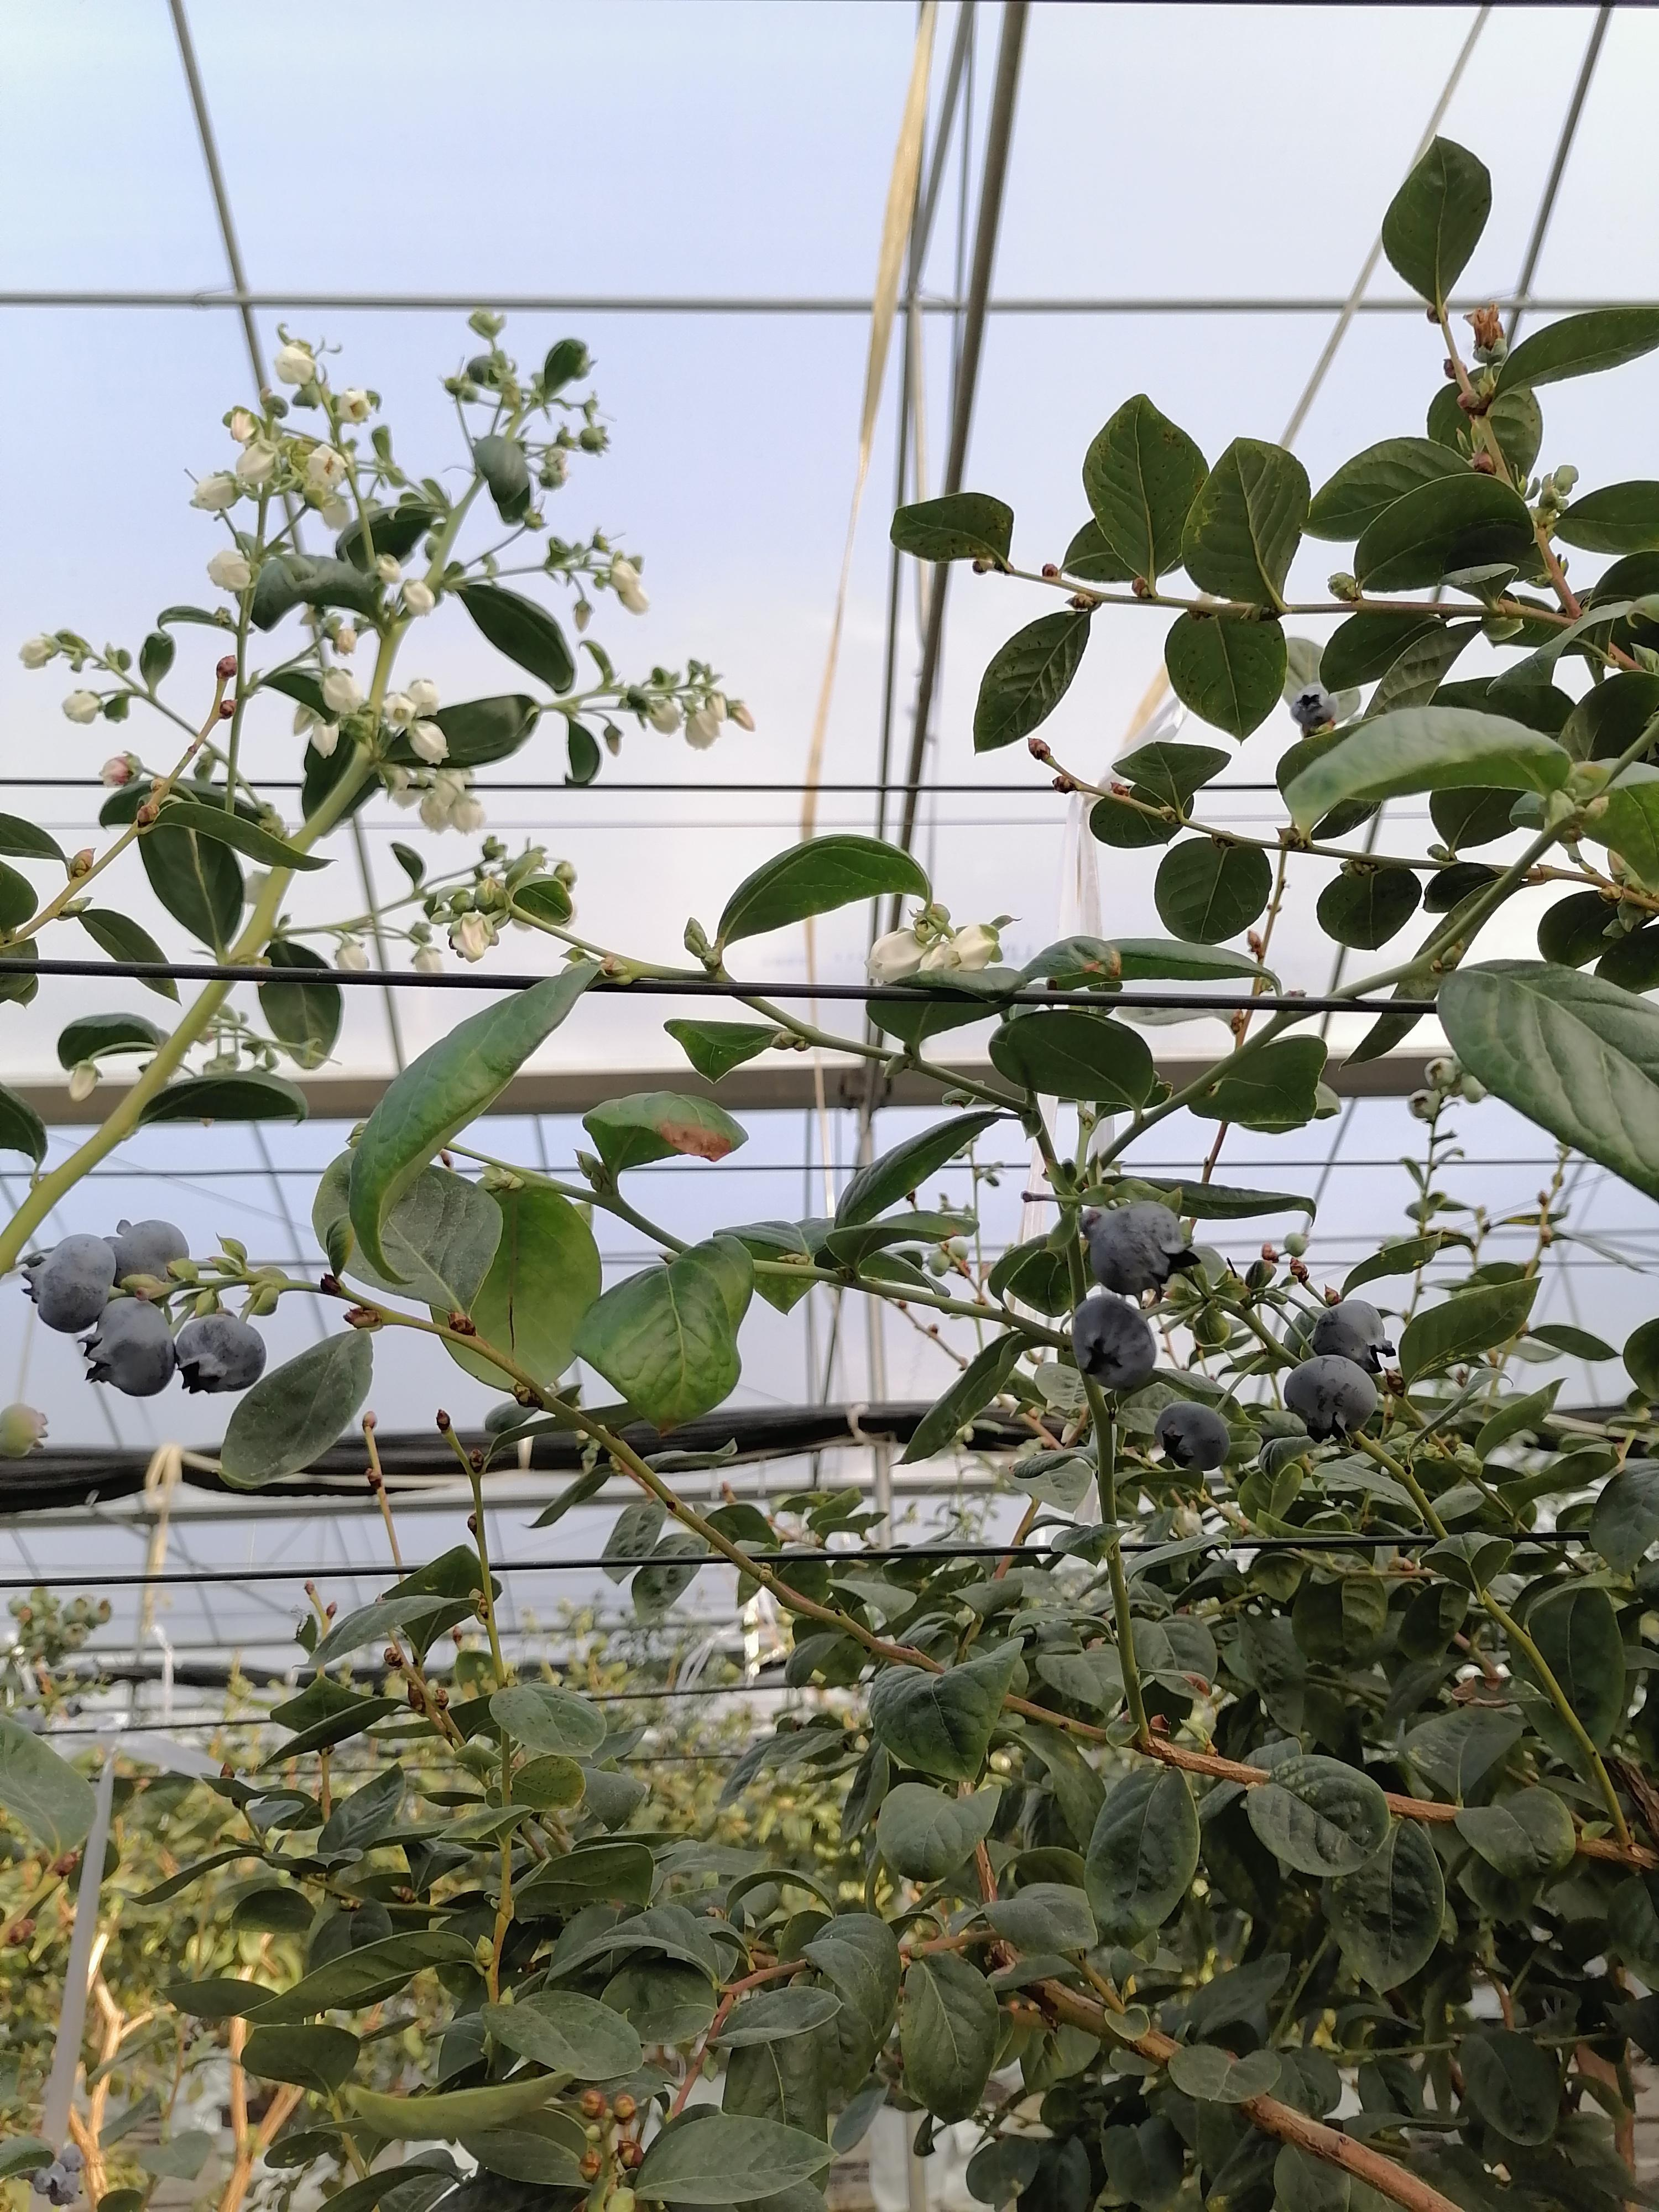ripe-blueberries: (1089, 1200, 1202, 1298), (80, 1296, 176, 1399), (23, 1231, 115, 1336), (1284, 1352, 1378, 1446), (1072, 1294, 1159, 1392), (174, 1312, 268, 1395), (103, 1219, 190, 1291), (1314, 1299, 1394, 1376), (1154, 1400, 1230, 1472), (1288, 683, 1338, 728)
